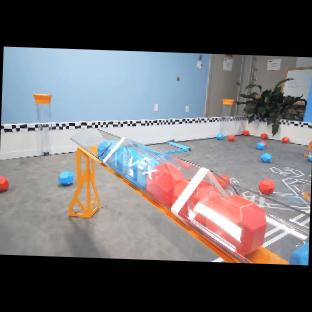Autolimit: (262, 229, 294, 248), (292, 208, 310, 221), (265, 226, 284, 238), (301, 218, 310, 225), (213, 257, 222, 262)
Goal: (69, 129, 310, 265)
Loader: (33, 94, 54, 157), (219, 99, 234, 136)
Low_goal: (271, 193, 310, 205)
Med_goal: (305, 150, 312, 162), (303, 190, 311, 198)
Parking - B: (164, 140, 191, 154)
V5_BLUE: (107, 146, 160, 188), (289, 244, 309, 265), (97, 141, 118, 160), (58, 171, 73, 185), (260, 153, 272, 163), (256, 142, 265, 150), (217, 134, 223, 140), (308, 156, 312, 162)
V5_RED: (178, 180, 267, 255), (146, 164, 192, 208), (258, 179, 275, 195), (216, 175, 230, 190), (0, 177, 9, 192), (260, 140, 267, 147), (282, 137, 290, 143), (228, 135, 235, 141), (261, 133, 268, 139), (243, 130, 249, 136), (309, 141, 312, 145)
blueingoal: (106, 145, 158, 189), (289, 241, 309, 265), (96, 140, 118, 161)
redingoal: (178, 181, 267, 255), (146, 164, 192, 209)
